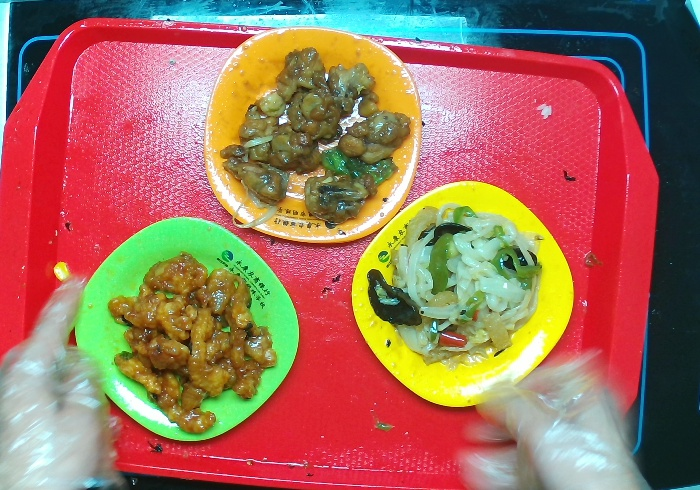YKMZ-Huang_Se_Fang_Die: (346, 179, 574, 408)
YKMZ-Ju_Se_Fang_Die: (205, 26, 425, 248)
YKMZ-Lv_Se_Fang_Die: (69, 217, 297, 446)
